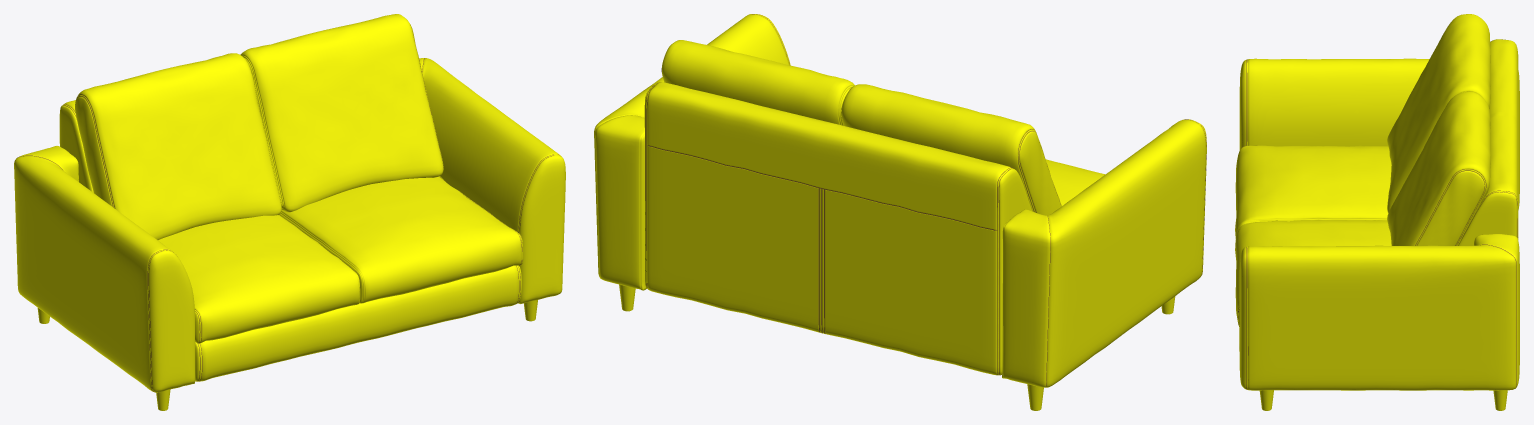
The picture shows the model from 3 angles, left to right: view 1: azimuth 30°, elevation 25°; view 2: azimuth 150°, elevation 25°; view 3: azimuth 270°, elevation 25°; orthographic projection. The views are drawn at different scales.
Visible parts, largest first — view 1: bodybrown17, armleft17, armright17, woodleg17; view 2: bodybrown17, armleft17, armright17, woodleg17; view 3: armright17, bodybrown17, armleft17, woodleg17.
Boxes of the visible parts, <box> form: bodybrown17: <box>59,14,523,381</box>; armleft17: <box>14,146,195,392</box>; armright17: <box>419,58,565,303</box>; woodleg17: <box>37,300,537,410</box>; bodybrown17: <box>644,40,1105,375</box>; armleft17: <box>1002,119,1206,387</box>; armright17: <box>594,14,790,290</box>; woodleg17: <box>619,284,1175,410</box>; armright17: <box>1239,234,1519,390</box>; bodybrown17: <box>1235,14,1518,351</box>; armleft17: <box>1239,58,1519,209</box>; woodleg17: <box>1259,390,1507,410</box>.
Bounding box in the file's own units: 1.57 × 0.8454 × 0.9372.
Materials: 9 (6 with a texture image).
